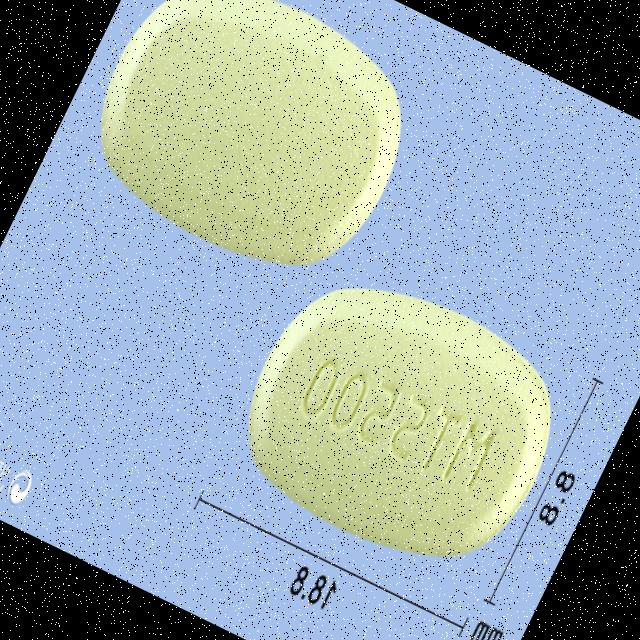Clarimacin: (207, 242, 592, 604), (57, 0, 446, 307)
